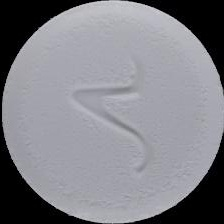61919-460: (0, 0, 224, 224)
